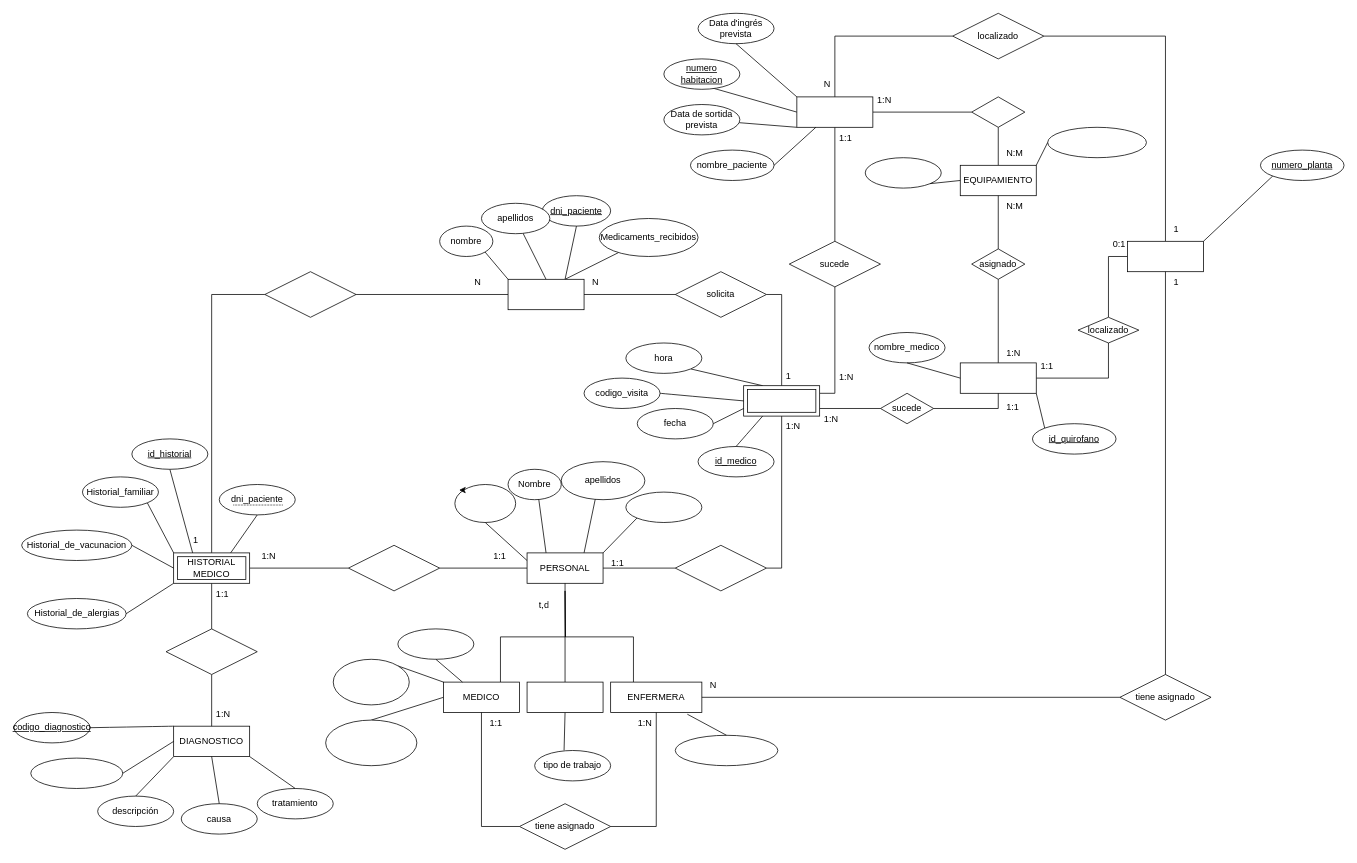
Image size: 1357x863. Some labels were removed from this diagram. Here are the shapes that lost their labels. From the top down, the box of each, then its label:
(796, 96, 873, 127): HABITACION
(971, 96, 1025, 127): equipa
(1047, 127, 1146, 158): nombre_dispositivo
(864, 157, 941, 188): id_dispositivo
(1127, 241, 1203, 272): PLANTA
(264, 271, 356, 317): tiene
(507, 279, 584, 310): PACIENTE
(960, 362, 1036, 393): QUIROFANO
(743, 385, 820, 416): RES/VIS
(454, 484, 516, 522): Id_personal
(625, 491, 702, 522): dni
(348, 545, 440, 591): crea
(674, 545, 766, 591): realiza
(165, 628, 257, 674): obtiene
(397, 628, 474, 659): estudios
(332, 659, 409, 705): especialidad
(526, 681, 603, 712): VARIO
(325, 719, 417, 766): curriculums
(674, 735, 778, 766): años_de_experiencia
(30, 757, 123, 788): Nombre_diagnostico
